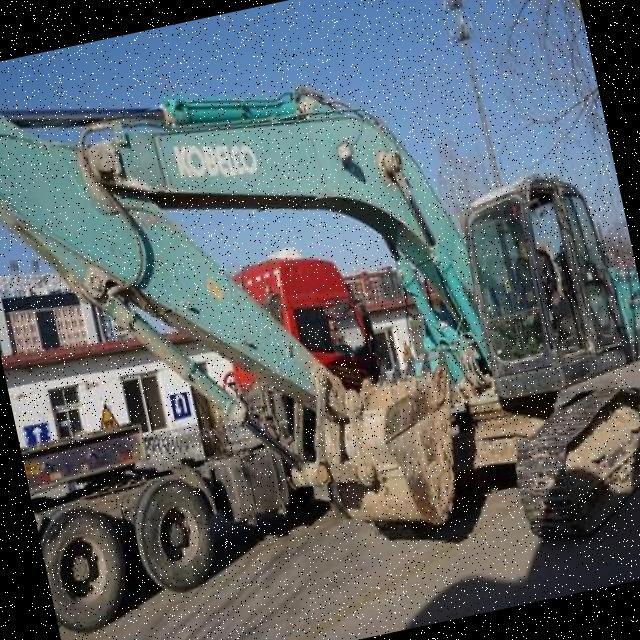Dump Truck: (0, 224, 420, 632)
Excavator: (0, 0, 640, 640)
